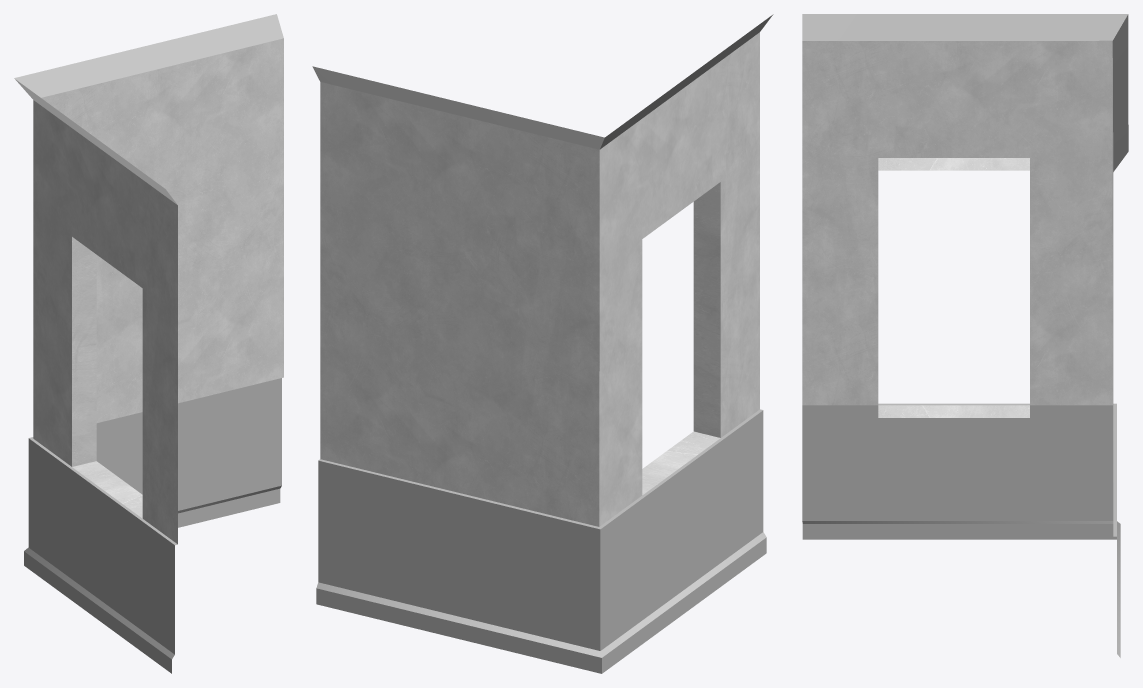
Rendered from WallIntWindowCorneroutside1A.fbx.
The picture shows the model from 3 angles, left to right: view 1: azimuth 30°, elevation 25°; view 2: azimuth 150°, elevation 25°; view 3: azimuth 270°, elevation 25°; orthographic projection. The views are drawn at different scales.
Visible parts, largest first — view 1: WallIntWindowCorneroutside1A; view 2: WallIntWindowCorneroutside1A; view 3: WallIntWindowCorneroutside1A.
Boxes of the visible parts, box(x1,y1,x2,y2) form: WallIntWindowCorneroutside1A: box(14, 14, 283, 673); WallIntWindowCorneroutside1A: box(312, 14, 773, 673); WallIntWindowCorneroutside1A: box(802, 14, 1128, 657).
Size of the model in its own units: 215 by 380 by 215.
